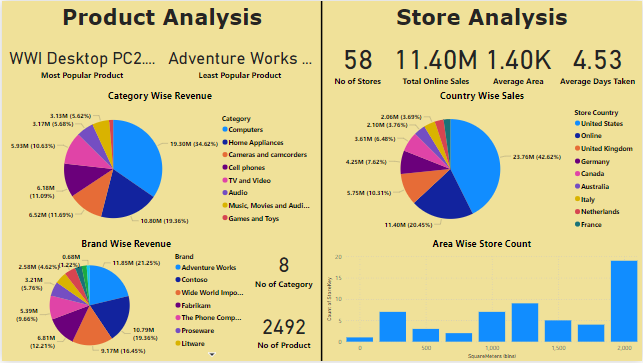

Layout of this report page (visuals, bound fields, positions):
{"tool":"powerbi","page":{"name":"Page 3","canvas":[1280,720],"ordinal":2},"visuals":[{"type":"textbox","box":[0,0,640,66.7],"z":0},{"type":"textbox","box":[640,0,640,66.7],"z":1},{"type":"shape","box":[632.2,0,14.4,720],"z":2},{"type":"pieChart","fields":{"Category":["dataspark_database GE_Data.Country_Store"],"Y":["Sum(dataspark_database GE_Data.TotalPriceUSD)"]},"box":[643.3,470,631.7,250],"z":3},{"type":"columnChart","fields":{"Category":["dataspark_database GE_Data.SquareMeters (bins)"],"Y":["Count(dataspark_database GE_Data.StoreKey)"]},"box":[643.3,176.7,631.7,293.3],"z":4},{"type":"card","fields":{"Values":["Count(dataspark_database GE_Data.StoreKey)"]},"box":[646.7,66.7,183.3,110],"z":5},{"type":"card","fields":{"Values":["Sum(dataspark_database GE_Data.TotalPriceUSD)"]},"box":[830,66.7,225,110],"z":6},{"type":"card","fields":{"Values":["dataspark_database GE_Data.Average of SquareMeters average per StoreKey"]},"box":[1055,66.7,220,110],"z":7},{"type":"card","fields":{"Values":["Count(dataspark_database GE_Data.Category)"]},"box":[201.7,546.7,118.3,96.7],"z":8},{"type":"card","fields":{"Values":["Min(dataspark_database GE_Data.ProductName)"]},"box":[0,66.7,320,110],"z":9},{"type":"card","fields":{"Values":["Min(dataspark_database GE_Data.ProductName)"]},"box":[320,66.7,311.7,110],"z":10}]}

Visuals, with their boxes in screenshot pixels (x1, y1, x2, y2), scaled from the page's 1280x720 canvas onto the 643x363 screenshot:
textbox: (0,0,322,34)
textbox: (322,0,642,34)
shape: (318,0,325,362)
pieChart - dataspark_database GE_Data.Country_Store x Sum(dataspark_database GE_Data.TotalPriceUSD): (323,237,640,362)
columnChart - dataspark_database GE_Data.SquareMeters (bins) x Count(dataspark_database GE_Data.StoreKey): (323,89,640,237)
card - Count(dataspark_database GE_Data.StoreKey): (325,34,417,89)
card - Sum(dataspark_database GE_Data.TotalPriceUSD): (417,34,530,89)
card - dataspark_database GE_Data.Average of SquareMeters average per StoreKey: (530,34,640,89)
card - Count(dataspark_database GE_Data.Category): (101,276,161,324)
card - Min(dataspark_database GE_Data.ProductName): (0,34,161,89)
card - Min(dataspark_database GE_Data.ProductName): (161,34,317,89)
